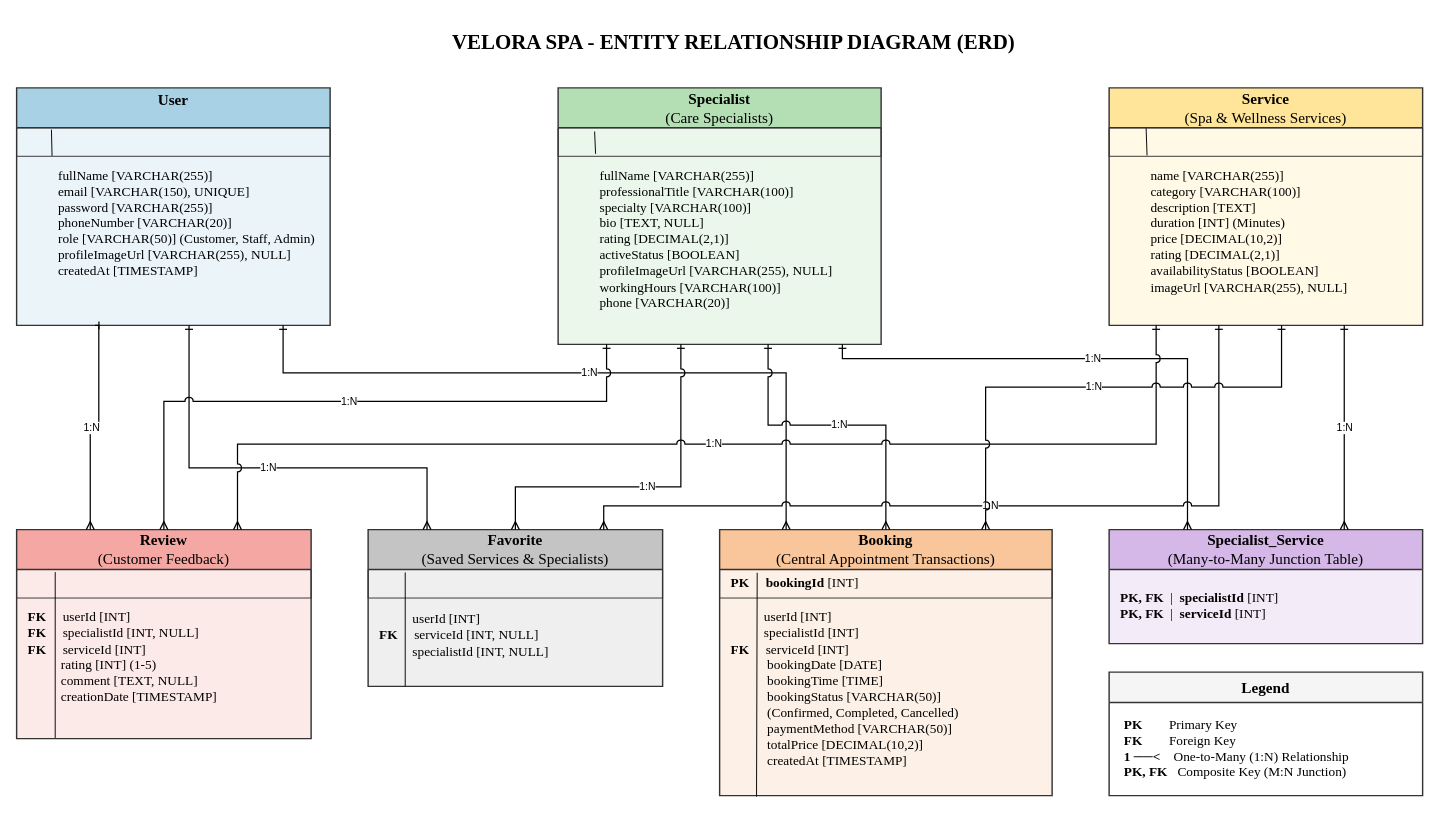
This 1440x814 diagram has some shape labels left out. Here are the shapes that lost their labels. From the top down, the centre of each, then its label:
At [173,141]: "PK userId [INT]".
At [719,141]: "PK specialistId [INT]".
At [1265,141]: "PK serviceId [INT]".
At [163,583]: "PK reviewId [INT]".
At [515,583]: "PK favoriteId [INT]".
